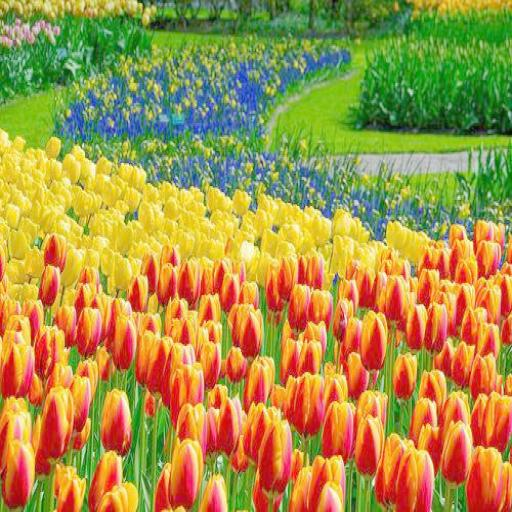tulip: (168, 363, 208, 427), (39, 387, 74, 460), (100, 386, 133, 461), (2, 440, 36, 510), (400, 444, 434, 512), (260, 420, 291, 494), (167, 440, 201, 507), (311, 453, 347, 512), (471, 444, 502, 512), (1, 331, 31, 401), (89, 450, 120, 512), (207, 402, 244, 450), (325, 403, 355, 461), (442, 422, 470, 484), (356, 415, 384, 475), (295, 374, 325, 429), (244, 358, 274, 412), (382, 272, 411, 325), (362, 315, 387, 369), (114, 314, 136, 369), (175, 257, 202, 301), (394, 352, 417, 400), (403, 304, 427, 349), (426, 302, 446, 356), (238, 309, 262, 354), (78, 309, 101, 355), (470, 352, 495, 392), (289, 283, 312, 326), (45, 229, 66, 272), (38, 266, 59, 304), (127, 272, 148, 309), (464, 306, 484, 343), (477, 238, 499, 271), (212, 256, 233, 290), (114, 249, 131, 288), (47, 138, 64, 162), (205, 186, 218, 212), (66, 158, 80, 182)
